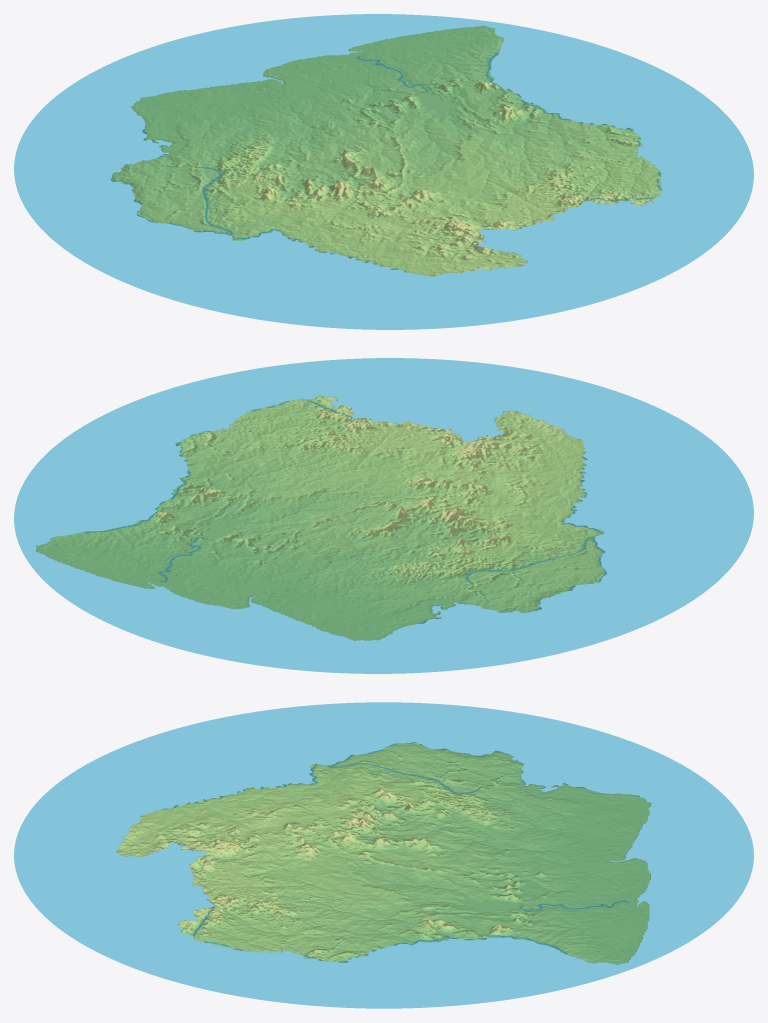
Rendered from SUR-terrain.glb.
3 views of the same model, one above another, from view 1: azimuth 30°, elevation 25°; view 2: azimuth 150°, elevation 25°; view 3: azimuth 270°, elevation 25° (orthographic).
Parts seen in each view (by area): view 1: Relevo com hidrografia; view 2: Relevo com hidrografia; view 3: Relevo com hidrografia.
Boxes of the visible parts, box(x1,y1,x2,y2) form: Relevo com hidrografia: box(14, 14, 753, 329); Relevo com hidrografia: box(14, 358, 753, 673); Relevo com hidrografia: box(14, 702, 753, 1008).
Bounding box in the file's own units: 2.18 × 0.038 × 2.22.
Materials: 2 (1 with a texture image).
